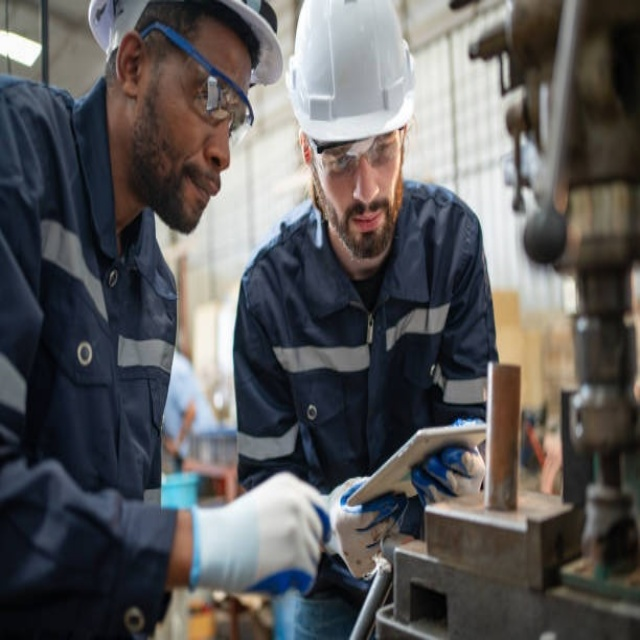Gafas: (148, 20, 256, 147), (311, 130, 403, 185)
Guantes: (191, 471, 335, 598), (329, 473, 403, 579), (411, 424, 487, 508)
Sin_mascara: (167, 168, 228, 224), (344, 198, 392, 253)
